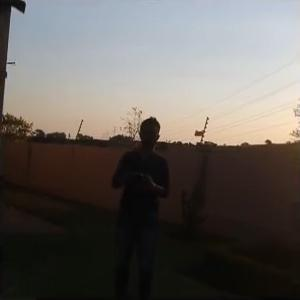follow: (100, 110, 174, 296)
